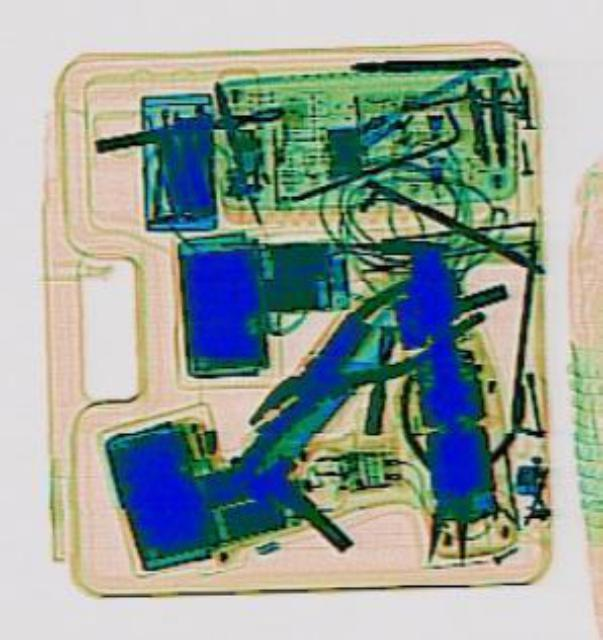Pliers: (225, 246, 486, 459), (376, 368, 524, 570)
